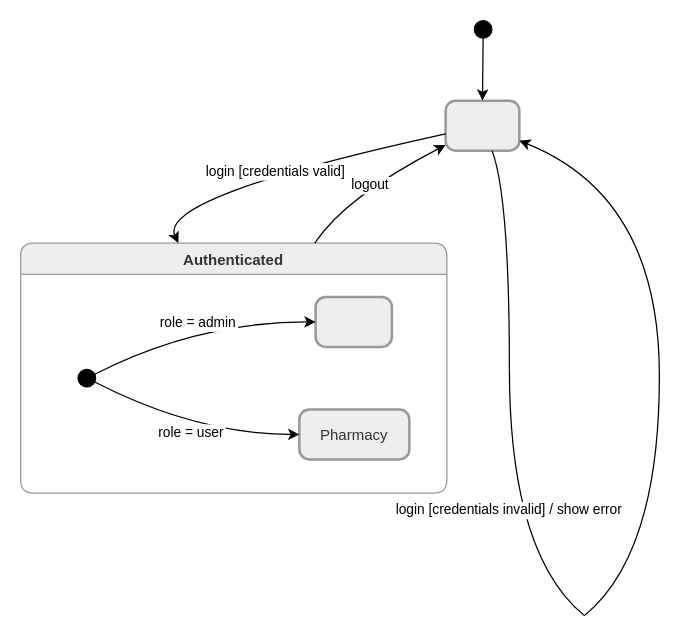
The diagram is 680 pixels wide and 636 high, and some of its shapes have lost their labels. Here are the shapes that lost their labels. From the top down, the centre of each, then its label:
point (482, 125): Guest
point (353, 321): Admin
